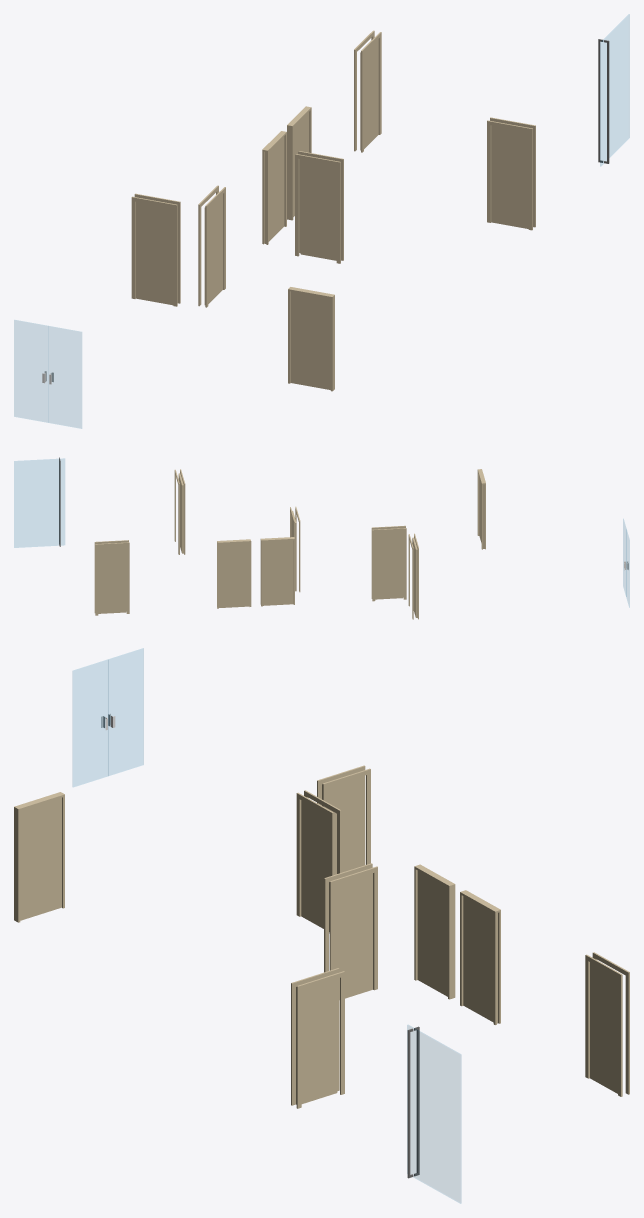
The model's file is rac_basic_sample_project_Level_2_IfcDoor.dae.
3 views of the same model, one above another, from view 1: azimuth 30°, elevation 25°; view 2: azimuth 150°, elevation 25°; view 3: azimuth 270°, elevation 25° (orthographic). The views are drawn at different scales.
Visible parts, largest first — view 1: 0ELdlxJuP1AwzgUXpRT7je, 0ELdlxJuP1AwzgUXpRT7eB, 0lntrd6l1AGwfcnKJK5qii, 0lntrd6l1AGwfcnKJK5qjQ, 2MWqvKy9535viQk_YsG9Xh, 3Yxgiuz3TDpeHhosGP5aso, 0lntrd6l1AGwfcnKJK5qpS, 0lntrd6l1AGwfcnKJK5qoH, 2wm6PO6TX9IxXwLP21HySo, 2wm6PO6TX9IxXwLP21HyWr; view 2: 3Yxgiuz3TDpeHhosGP5aso, 0lntrd6l1AGwfcnKJK5qpS, 0lntrd6l1AGwfcnKJK5qoH, 2wm6PO6TX9IxXwLP21HySo, 2wm6PO6TX9IxXwLP21HyWr, 0lntrd6l1AGwfcnKJK5qii, 0ELdlxJuP1AwzgUXpRT7eB, 2MWqvKy9535viQk_YsG9Xh, 0ELdlxJuP1AwzgUXpRT7je, 0lntrd6l1AGwfcnKJK5qjQ; view 3: 0ELdlxJuP1AwzgUXpRT7je, 3Yxgiuz3TDpeHhosGP5aso, 0lntrd6l1AGwfcnKJK5qii, 0lntrd6l1AGwfcnKJK5qjQ, 2MWqvKy9535viQk_YsG9Xh, 0lntrd6l1AGwfcnKJK5qoH, 2wm6PO6TX9IxXwLP21HySo, 2wm6PO6TX9IxXwLP21HyWr, 0lntrd6l1AGwfcnKJK5qpS, 0ELdlxJuP1AwzgUXpRT7eB.
Boxes of the visible parts, left/top/right/bottom form: 0ELdlxJuP1AwzgUXpRT7je: left=14, top=320, right=81, bottom=428; 0ELdlxJuP1AwzgUXpRT7eB: left=131, top=193, right=180, bottom=306; 0lntrd6l1AGwfcnKJK5qii: left=487, top=117, right=535, bottom=230; 0lntrd6l1AGwfcnKJK5qjQ: left=295, top=151, right=343, bottom=263; 2MWqvKy9535viQk_YsG9Xh: left=288, top=287, right=334, bottom=391; 3Yxgiuz3TDpeHhosGP5aso: left=598, top=14, right=629, bottom=165; 0lntrd6l1AGwfcnKJK5qpS: left=198, top=185, right=225, bottom=307; 0lntrd6l1AGwfcnKJK5qoH: left=354, top=30, right=381, bottom=152; 2wm6PO6TX9IxXwLP21HySo: left=262, top=131, right=286, bottom=244; 2wm6PO6TX9IxXwLP21HyWr: left=287, top=106, right=311, bottom=220; 3Yxgiuz3TDpeHhosGP5aso: left=14, top=457, right=64, bottom=547; 0lntrd6l1AGwfcnKJK5qpS: left=371, top=525, right=406, bottom=601; 0lntrd6l1AGwfcnKJK5qoH: left=94, top=540, right=129, bottom=615; 2wm6PO6TX9IxXwLP21HySo: left=260, top=537, right=294, bottom=606; 2wm6PO6TX9IxXwLP21HyWr: left=217, top=539, right=251, bottom=608; 0lntrd6l1AGwfcnKJK5qii: left=174, top=469, right=185, bottom=554; 0ELdlxJuP1AwzgUXpRT7eB: left=408, top=533, right=418, bottom=619; 2MWqvKy9535viQk_YsG9Xh: left=477, top=469, right=485, bottom=549; 0ELdlxJuP1AwzgUXpRT7je: left=623, top=519, right=629, bottom=606; 0lntrd6l1AGwfcnKJK5qjQ: left=290, top=506, right=300, bottom=592; 0ELdlxJuP1AwzgUXpRT7je: left=73, top=648, right=143, bottom=786; 3Yxgiuz3TDpeHhosGP5aso: left=407, top=1025, right=460, bottom=1203; 0lntrd6l1AGwfcnKJK5qii: left=291, top=968, right=344, bottom=1108; 0lntrd6l1AGwfcnKJK5qjQ: left=324, top=863, right=377, bottom=999; 2MWqvKy9535viQk_YsG9Xh: left=14, top=792, right=64, bottom=922; 0lntrd6l1AGwfcnKJK5qoH: left=585, top=952, right=629, bottom=1096; 2wm6PO6TX9IxXwLP21HySo: left=414, top=864, right=455, bottom=999; 2wm6PO6TX9IxXwLP21HyWr: left=460, top=890, right=500, bottom=1024; 0lntrd6l1AGwfcnKJK5qpS: left=296, top=790, right=341, bottom=933; 0ELdlxJuP1AwzgUXpRT7eB: left=317, top=765, right=370, bottom=874.
Size of the model in its own units: 16.82 by 9.97 by 2.66.
